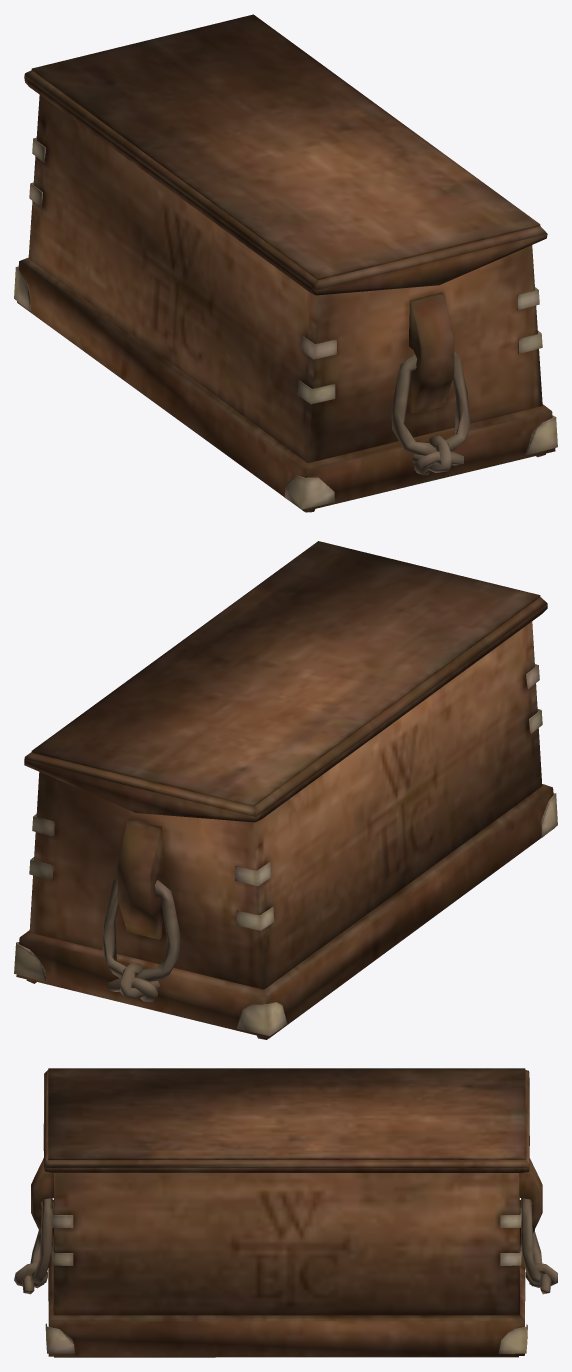
The model's file is crate.glb.
The picture shows the model from 3 angles, top to bottom: view 1: azimuth 30°, elevation 25°; view 2: azimuth 150°, elevation 25°; view 3: azimuth 270°, elevation 25°; orthographic projection. The views are drawn at different scales.
Visible parts, largest first — view 1: wooden_crate_02_crate; view 2: wooden_crate_02_crate; view 3: wooden_crate_02_crate.
Part boxes in pixels (x1=…): wooden_crate_02_crate: x1=14, y1=14, x2=557, y2=512; wooden_crate_02_crate: x1=14, y1=541, x2=557, y2=1039; wooden_crate_02_crate: x1=14, y1=1068, x2=557, y2=1357.
Bounding box in the file's own units: 0.5291 × 0.4628 × 1.16.
Materials: 1 (1 with a texture image).
